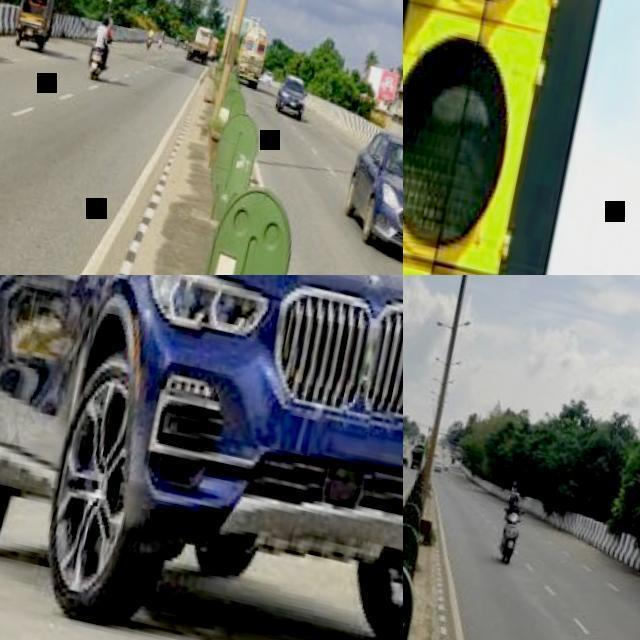car: (0, 274, 400, 625), (347, 130, 404, 263), (277, 74, 305, 119)
